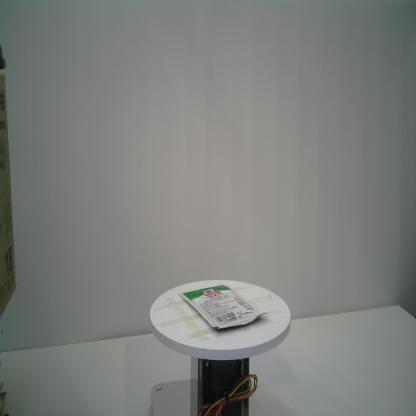Seasoner: (178, 282, 269, 330)
